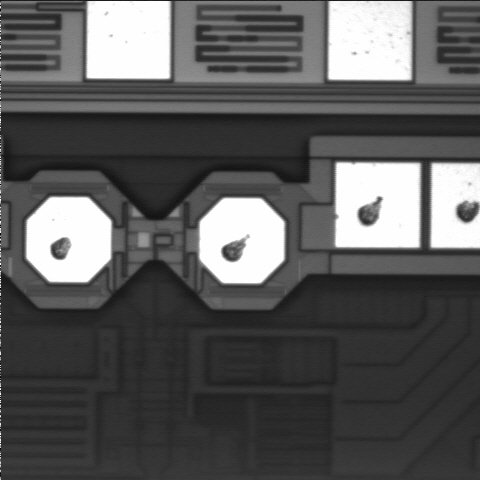pad: (26, 197, 111, 282), (199, 198, 284, 283), (335, 163, 420, 247)
